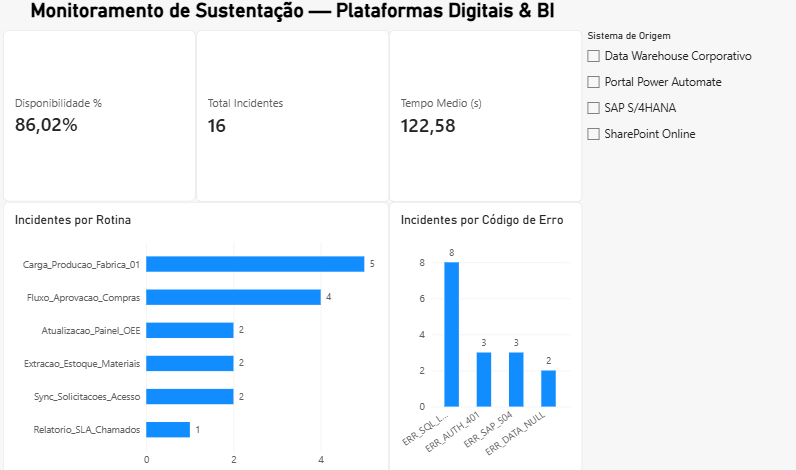

What the dashboard file says about the page in this screenshot:
{"tool":"powerbi","page":{"name":"Página 1","canvas":[1920,1080],"ordinal":0},"visuals":[{"type":"cardVisual","fields":{"Data":["dados_powerbi.Disponibilidade %"]},"box":[10.2,46.7,281.6,250.9],"z":0},{"type":"cardVisual","fields":{"Data":["dados_powerbi.Total Incidentes"]},"box":[291.8,46.7,282,251],"z":1000},{"type":"cardVisual","fields":{"Data":["dados_powerbi.Tempo Medio (s)"]},"box":[573.4,46.7,282,251],"z":2000},{"type":"clusteredBarChart","title":"Incidentes por Rotina","fields":{"Category":["dados_powerbi.nome_rotina"],"Y":["dados_powerbi.Total Incidentes"]},"box":[10.2,297.6,563.2,408.5],"z":3000},{"type":"clusteredColumnChart","title":"Incidentes por Código de Erro","fields":{"Category":["dados_powerbi.codigo_erro"],"Y":["dados_powerbi.Total Incidentes"]},"box":[573.4,297.6,281.6,408.5],"z":4000},{"type":"slicer","fields":{"Values":["dados_powerbi.nome_sistema"]},"box":[855,46.7,573.4,250.9],"z":4001},{"type":"textbox","box":[10.2,0,844.7,46.7],"z":4002}]}

Visuals, with their boxes on the page's 1920x1080 design canvas (x1, y1, x2, y2). These are canvas units, not pixel positions in the 796x470 screenshot, which may show the page scaled, cropped or inside an application window:
cardVisual - dados_powerbi.Disponibilidade %: rect(10, 47, 292, 298)
cardVisual - dados_powerbi.Total Incidentes: rect(292, 47, 574, 298)
cardVisual - dados_powerbi.Tempo Medio (s): rect(573, 47, 855, 298)
"Incidentes por Rotina" clusteredBarChart: rect(10, 298, 573, 706)
"Incidentes por Código de Erro" clusteredColumnChart: rect(573, 298, 855, 706)
slicer - dados_powerbi.nome_sistema: rect(855, 47, 1428, 298)
textbox: rect(10, 0, 855, 47)
